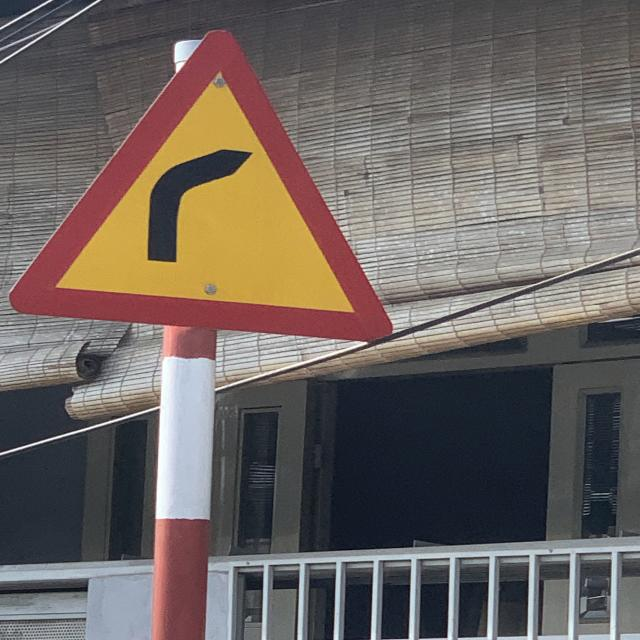Duong_Nguoi_Di_Bo_Cat_Ngang: (8, 29, 398, 345)
